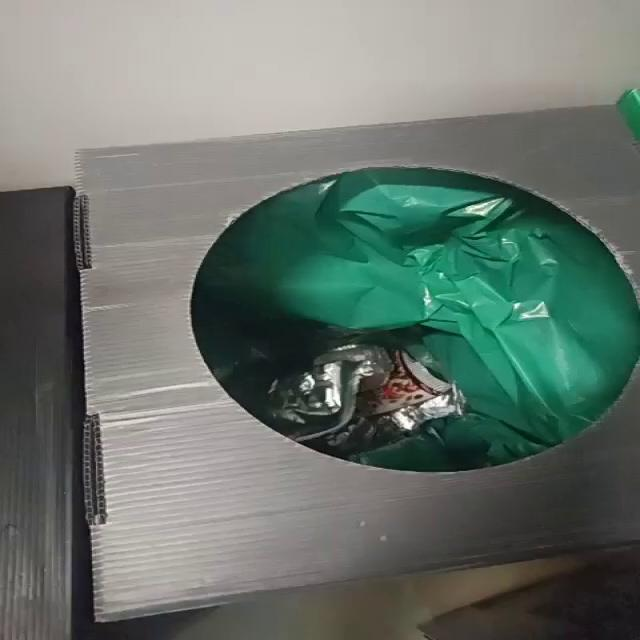bin: (76, 106, 639, 622)
metal: (268, 345, 465, 457)
